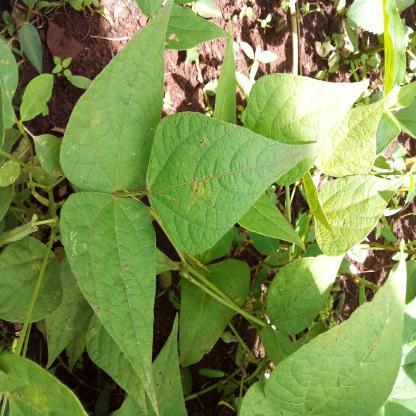Beans_Angular_LeafSpot: (147, 108, 317, 252), (270, 249, 405, 415), (62, 191, 159, 405)
